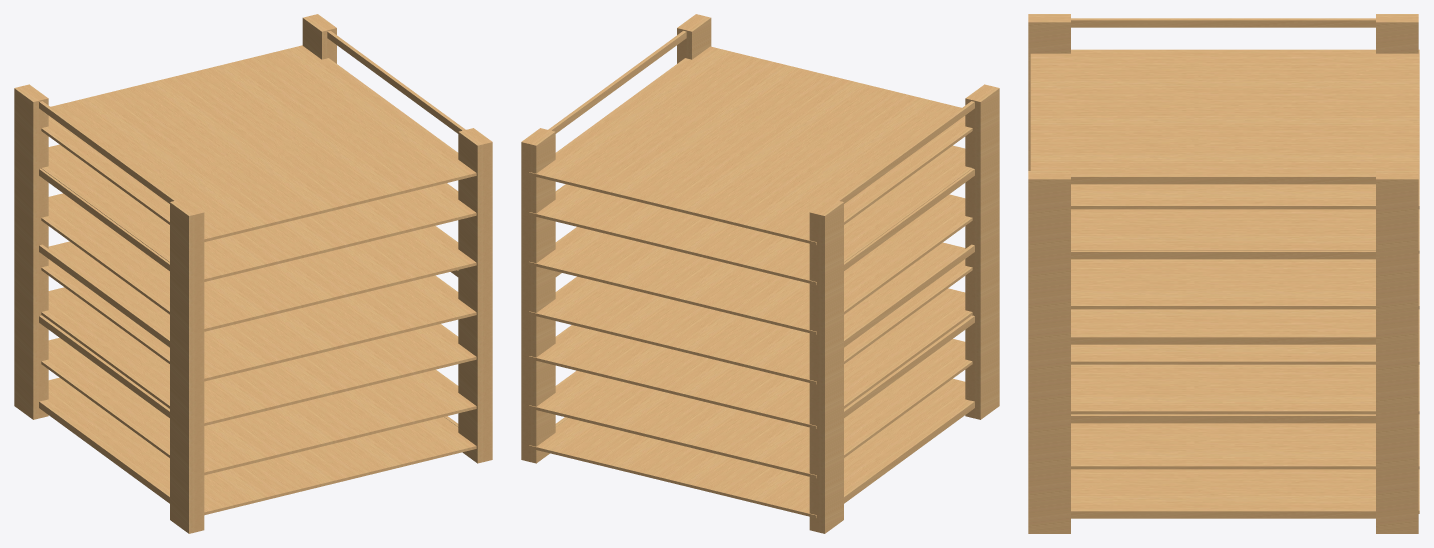
File: sh-contrib-pinewood-rack-full-height.glb
3 views of the same model, side by side, from view 1: azimuth 30°, elevation 25°; view 2: azimuth 150°, elevation 25°; view 3: azimuth 270°, elevation 25° (orthographic). The views are drawn at different scales.
Visible parts, largest first — view 1: rack; view 2: rack; view 3: rack.
Boxes of the visible parts, x1,y1,x2,y2 form: rack: (14,14,492,533); rack: (521,14,999,533); rack: (1028,14,1419,533).
Bounding box in the file's own units: 1 × 1 × 1.
1 material, 1 textured.
